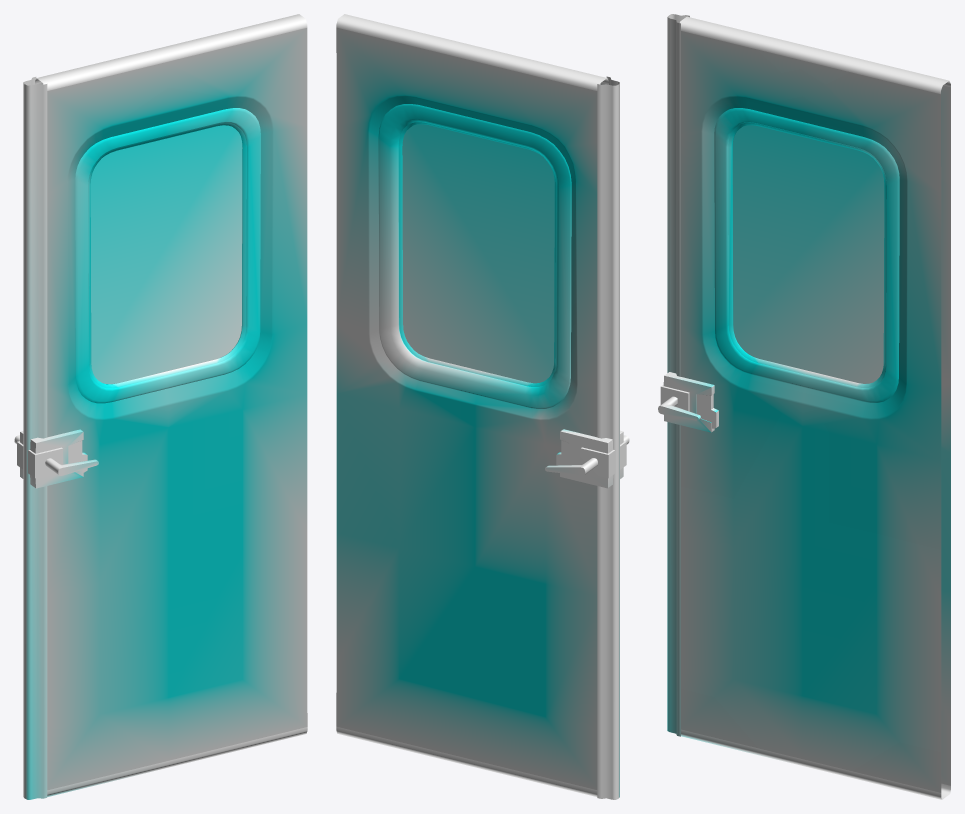
File: SM_door_end_01.fbx
3 views of the same model, side by side, from view 1: azimuth 30°, elevation 25°; view 2: azimuth 150°, elevation 25°; view 3: azimuth 330°, elevation 25° (orthographic).
Parts seen in each view (by area): view 1: SM_door_end_01_LOD0; view 2: SM_door_end_01_LOD0; view 3: SM_door_end_01_LOD0.
Boxes of the visible parts, x1,y1,x2,y2 form: SM_door_end_01_LOD0: [14, 14, 307, 799]; SM_door_end_01_LOD0: [336, 14, 629, 799]; SM_door_end_01_LOD0: [658, 14, 950, 799].
Bounding box in the file's own units: 89.11 × 219 × 24.47.
